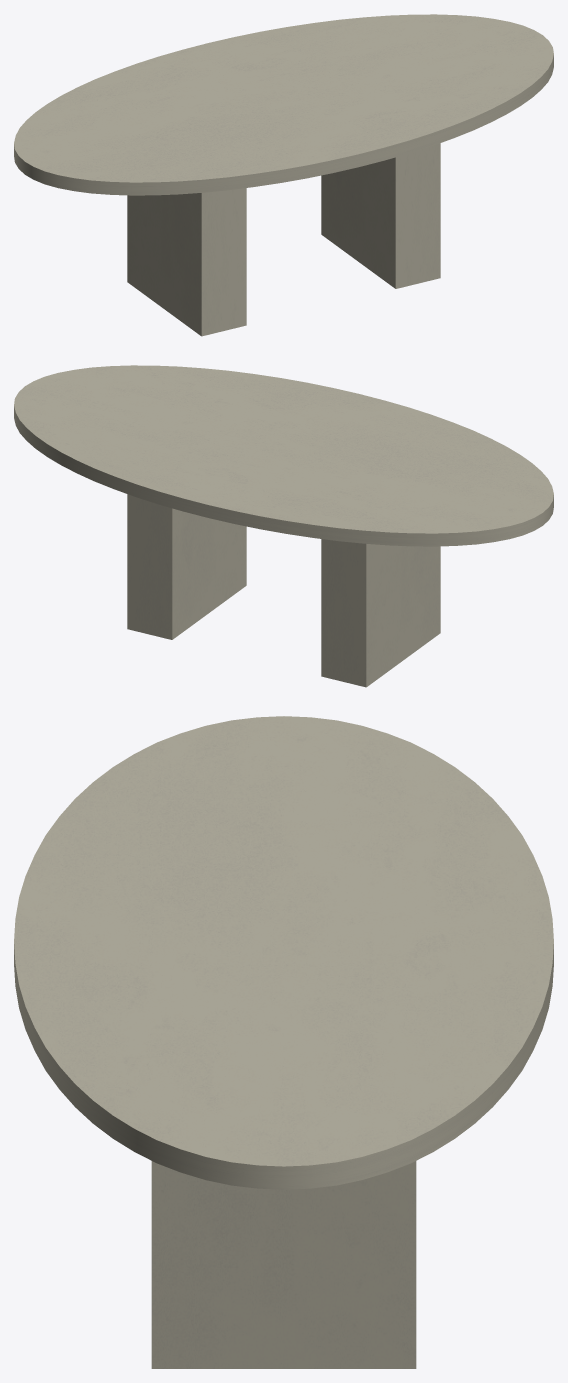
File: silk_ellips_standard_ridge.glb
The picture shows the model from 3 angles, top to bottom: view 1: azimuth 30°, elevation 25°; view 2: azimuth 150°, elevation 25°; view 3: azimuth 270°, elevation 25°; orthographic projection. The views are drawn at different scales.
Parts seen in each view (by area): view 1: silk_ellipsstandard_ridge; view 2: silk_ellipsstandard_ridge; view 3: silk_ellipsstandard_ridge.
Part boxes in pixels (x1,y1,x2,y2): silk_ellipsstandard_ridge: (14, 14, 553, 336); silk_ellipsstandard_ridge: (14, 365, 553, 687); silk_ellipsstandard_ridge: (14, 716, 553, 1368).
Size of the model in its own units: 7.5 by 2.51 by 3.8.
1 material, 1 textured.
